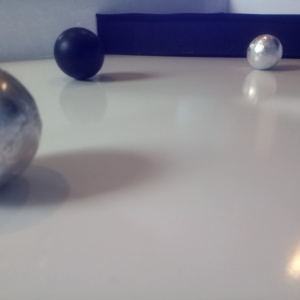zone: (95, 13, 300, 59)
